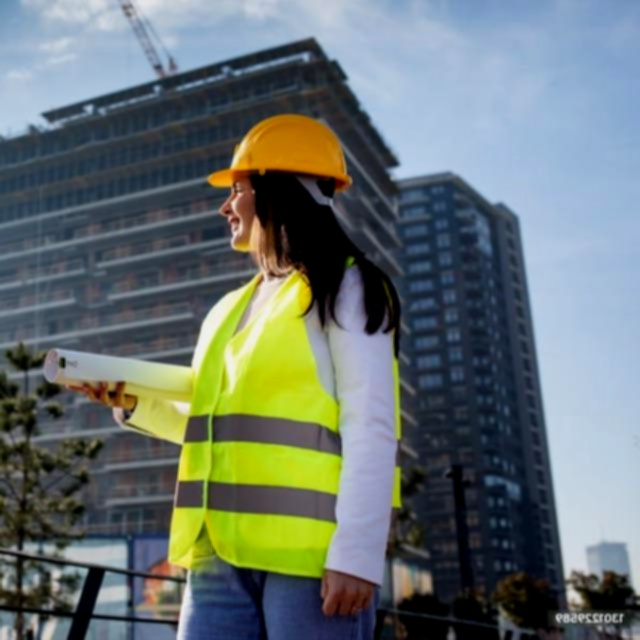Con_Casco: (205, 116, 351, 254)
Con_Chaleco: (174, 263, 398, 569)
